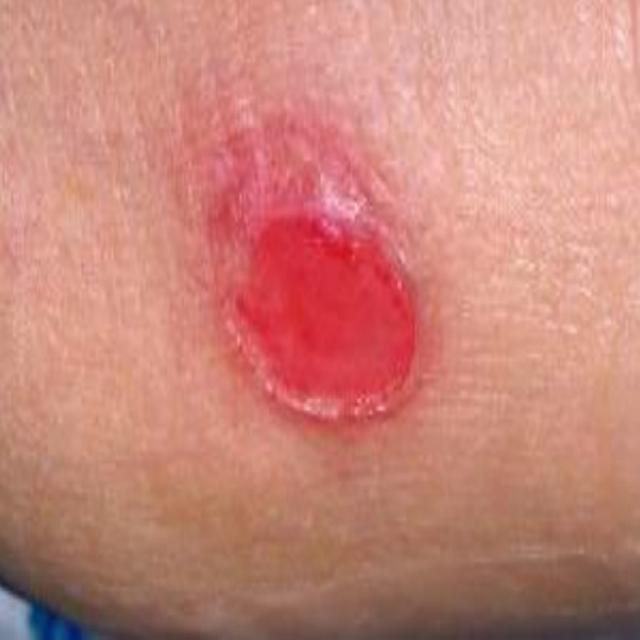stage-2: (226, 222, 415, 414)
